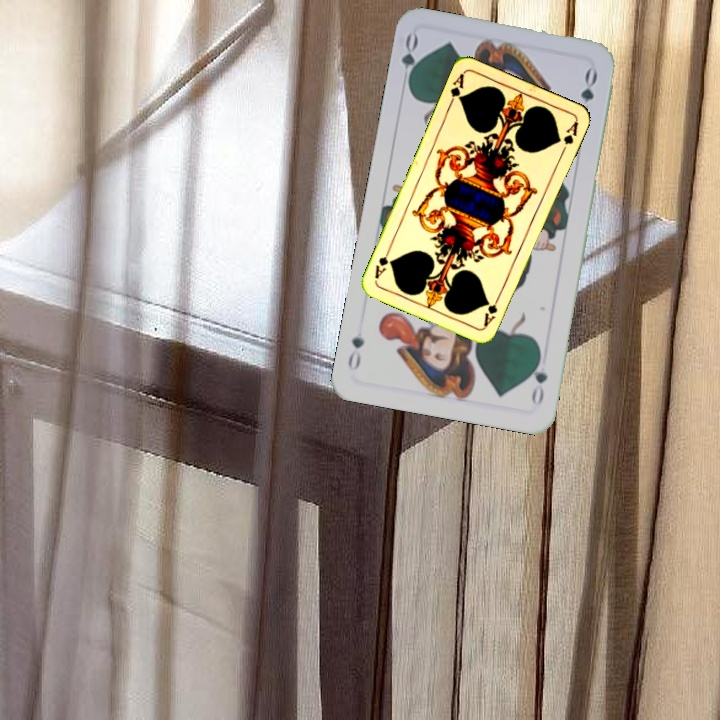GA: (480, 290, 503, 329), (445, 69, 467, 108)
GO: (397, 30, 424, 90), (527, 349, 551, 408)
